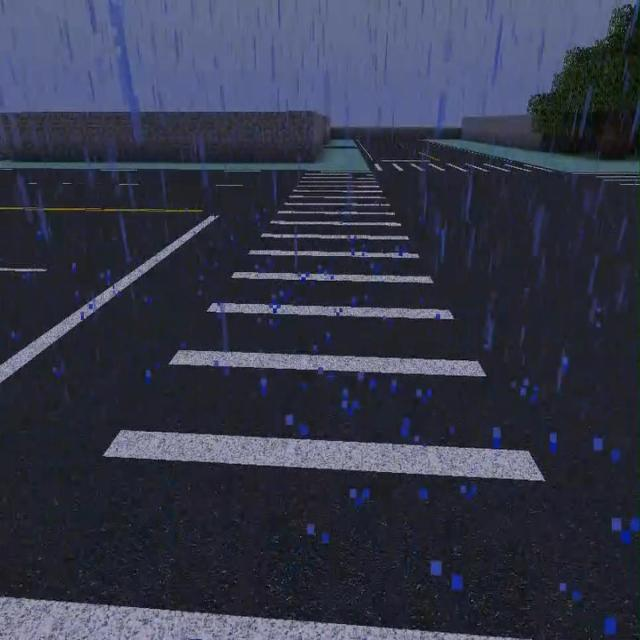8: (0, 177, 639, 639), (371, 159, 568, 174), (574, 171, 639, 194)
crosswalk: (0, 176, 294, 586), (380, 177, 639, 629)
road: (0, 138, 368, 170)
